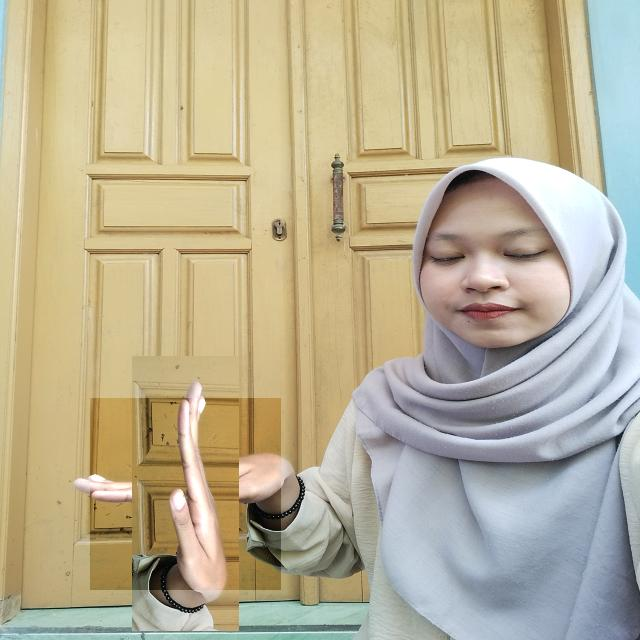adik: (90, 398, 281, 590)
